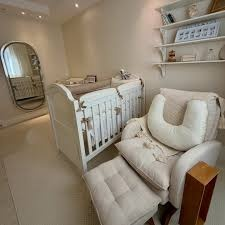crib: (46, 73, 145, 175)
